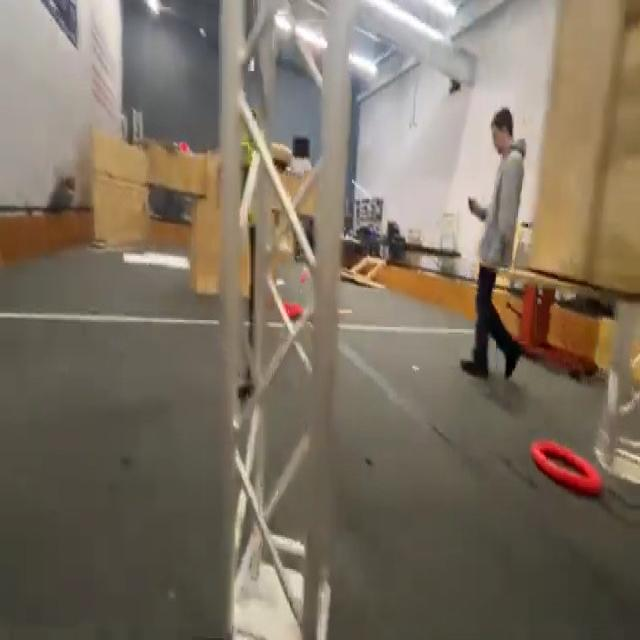note: (531, 441, 604, 499)
